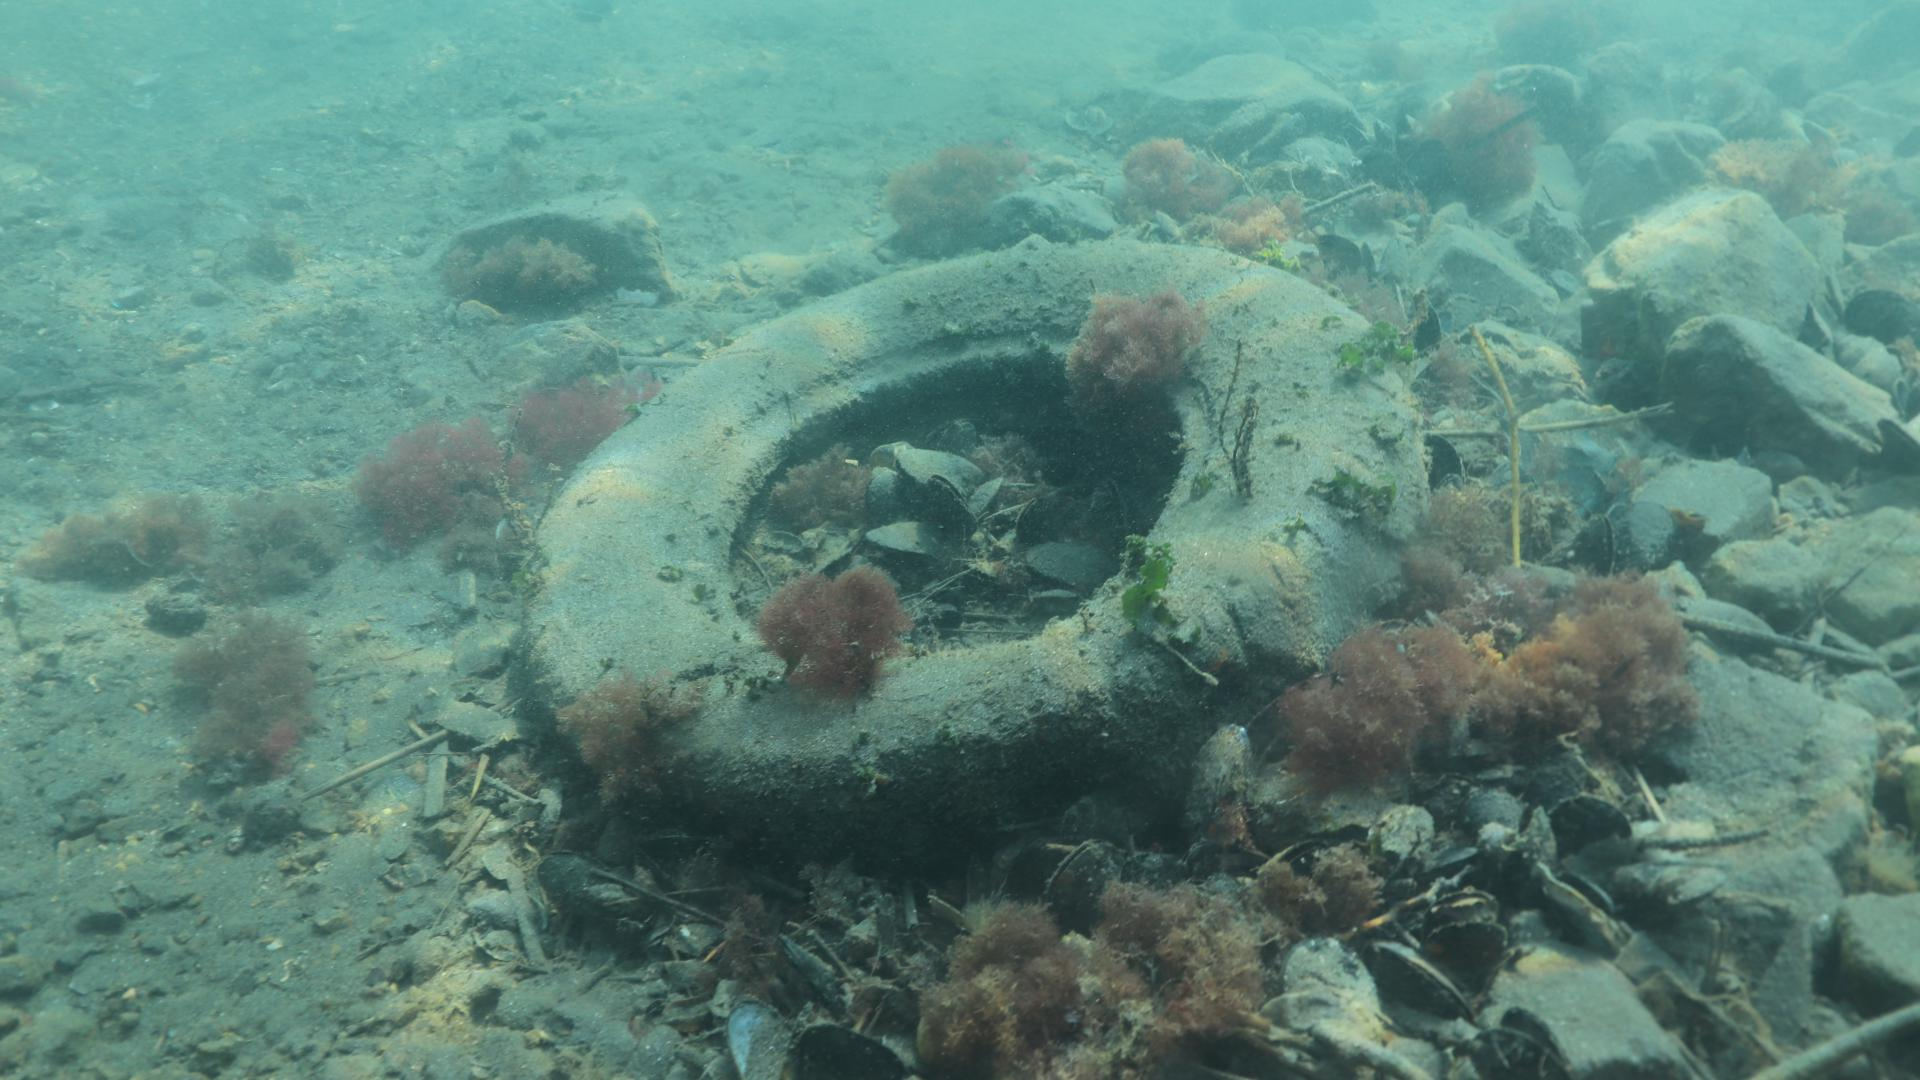tire: (522, 237, 1433, 887)
